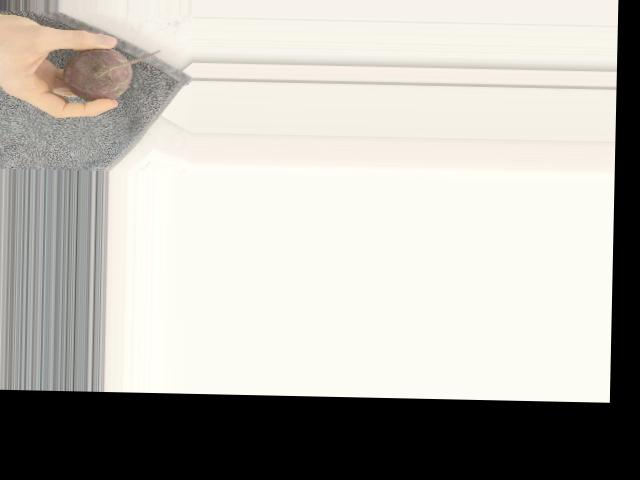beet: (63, 47, 161, 102)
